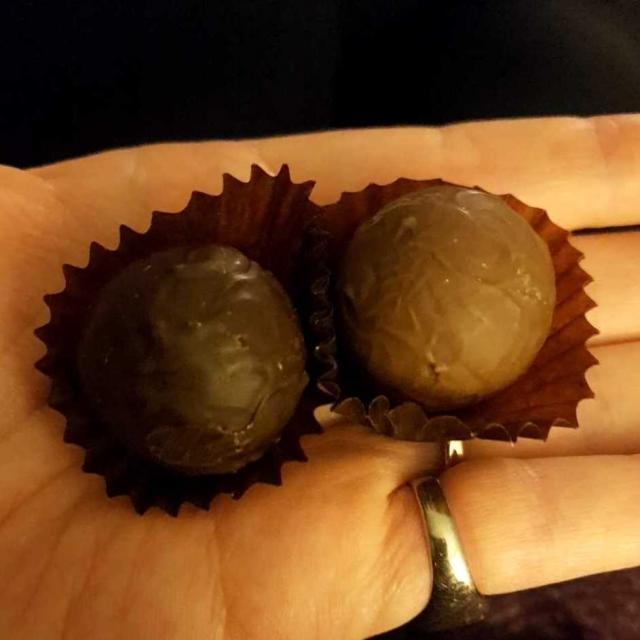nuts: (74, 187, 564, 475)
